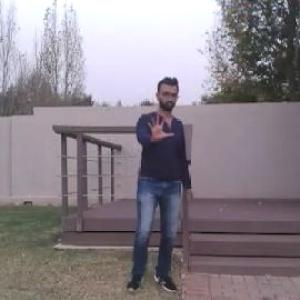follow_hand: (143, 109, 176, 145)
